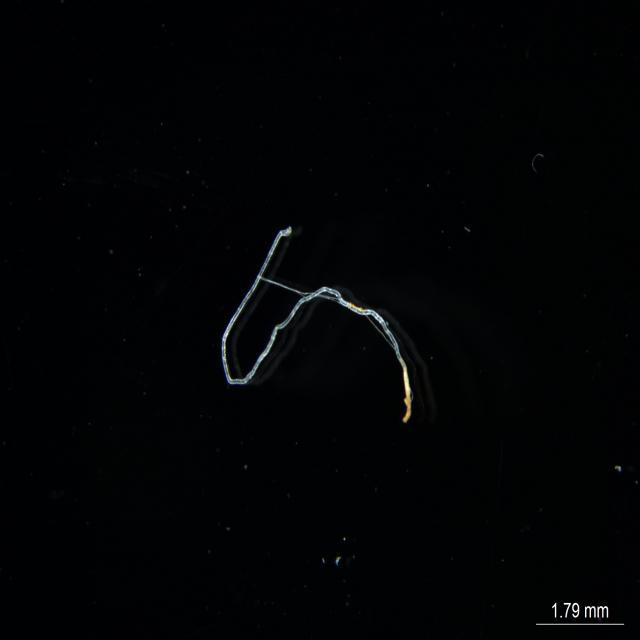fibers: (211, 217, 448, 428)
